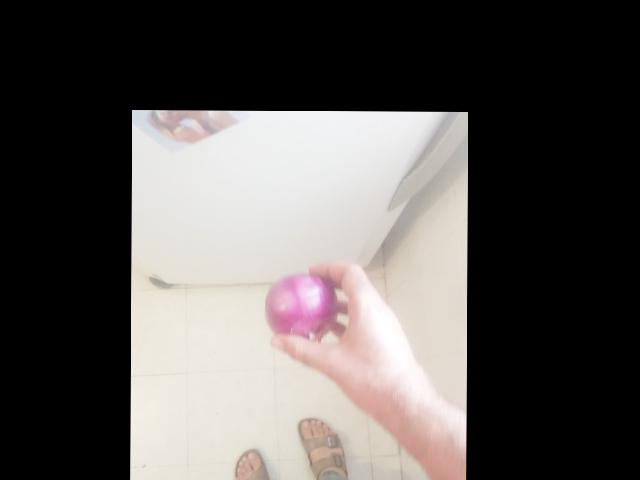onion: (265, 271, 337, 338)
